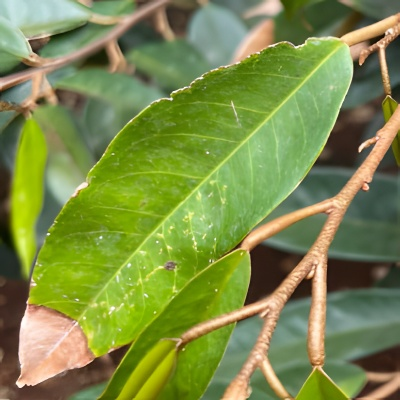Leaf_Blight: (14, 35, 393, 400)
